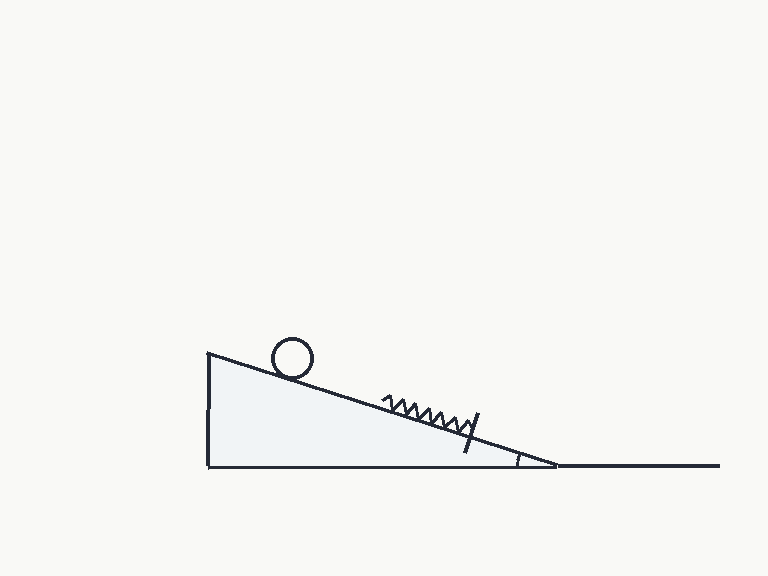ball: (269, 335, 315, 381)
ramp: (205, 350, 559, 468)
spring: (379, 393, 474, 433)
